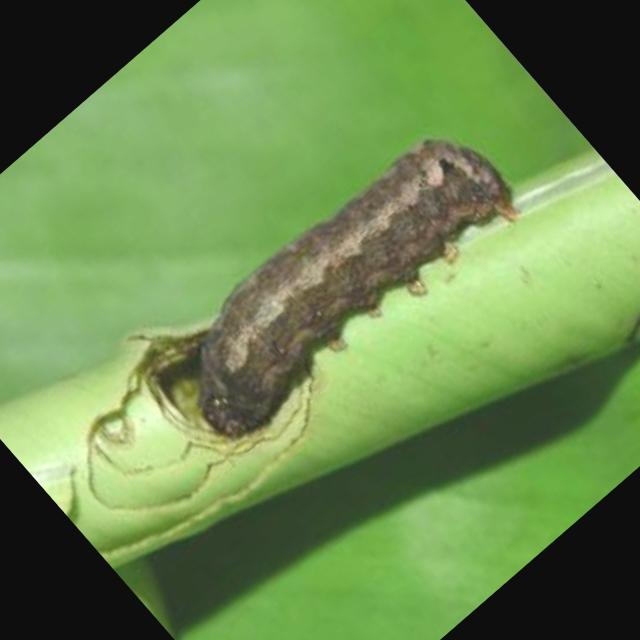Tobacco cutworm: (74, 41, 594, 541)
